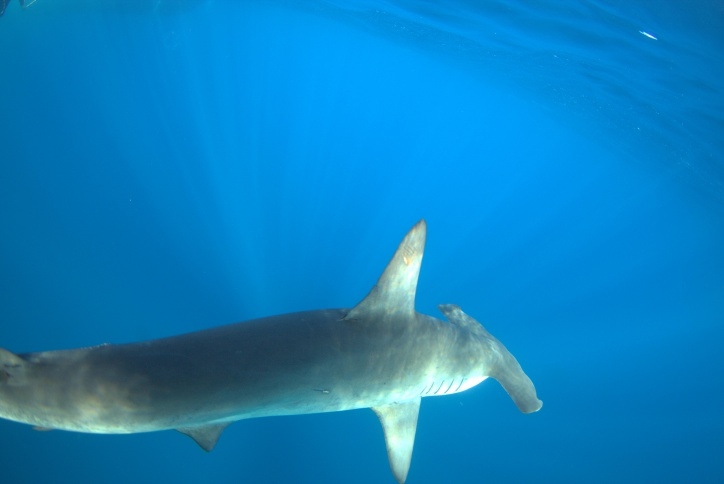Hammer: (1, 202, 579, 467)
